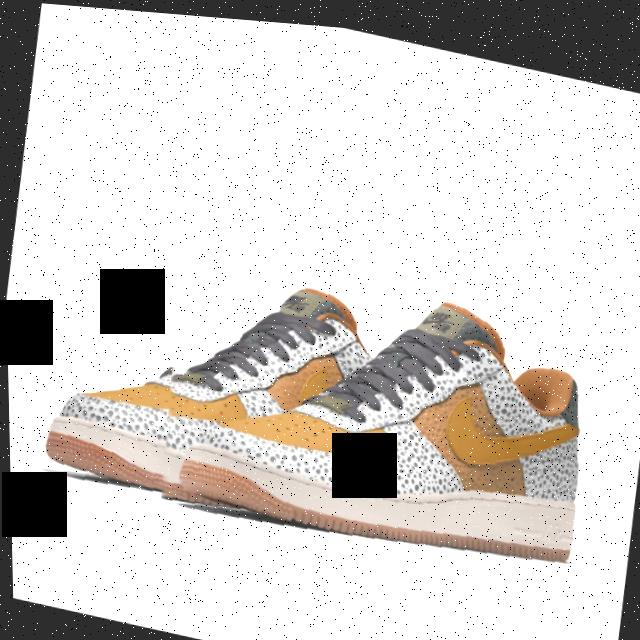shoe: (141, 235, 617, 616), (23, 222, 396, 554)
